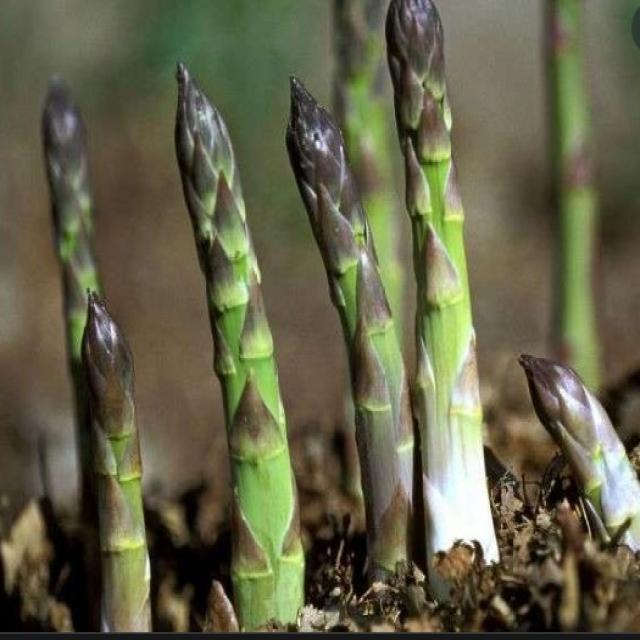aspargus: (174, 64, 302, 628), (287, 77, 415, 578), (385, 0, 496, 572), (76, 291, 152, 633), (518, 355, 640, 558)
